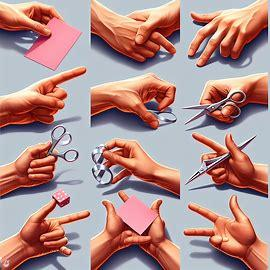Scissor: (185, 3, 267, 68)
